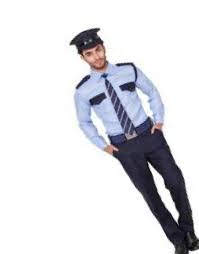uniform: (64, 29, 199, 231)
